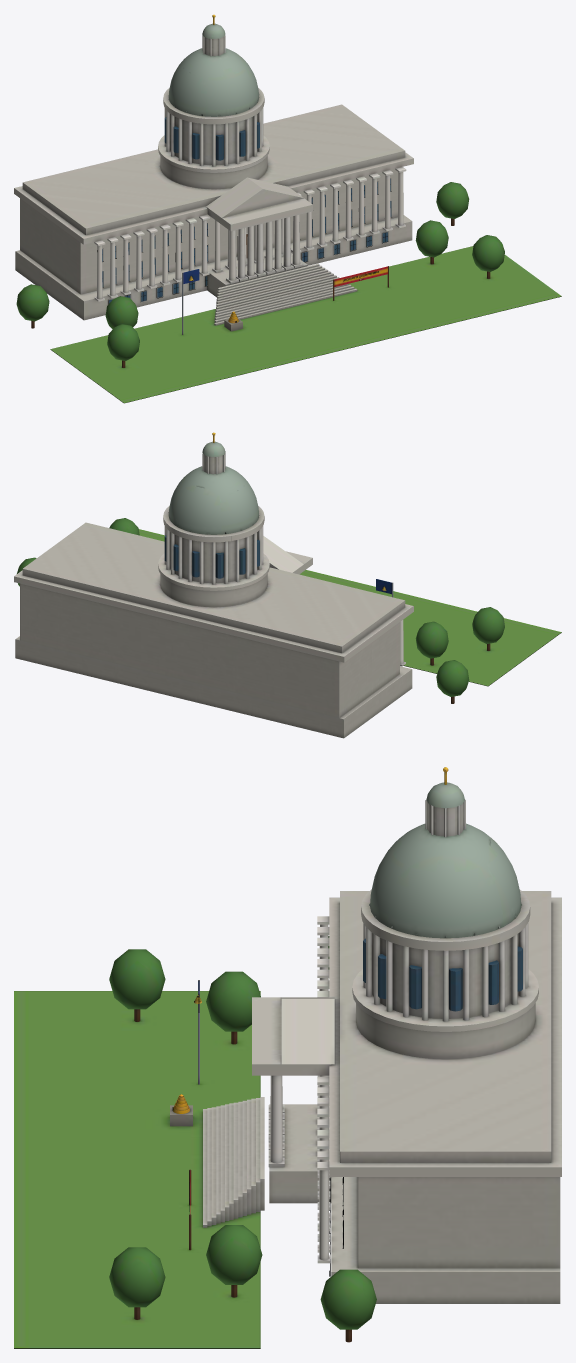
Rendered from capitolio_utah.glb.
3 renders of one model, top to bottom at view 1: azimuth 30°, elevation 25°; view 2: azimuth 150°, elevation 25°; view 3: azimuth 270°, elevation 25°, orthographic. The views are drawn at different scales.
Visible parts, largest first — view 1: capitolio_utah; view 2: capitolio_utah; view 3: capitolio_utah.
Part boxes in pixels (<box>): capitolio_utah: <box>14,14,561,403</box>; capitolio_utah: <box>14,432,561,738</box>; capitolio_utah: <box>14,767,561,1348</box>.
Bounding box in the file's own units: 98.09 × 50.5 × 62.2.
1 material, 1 textured.
